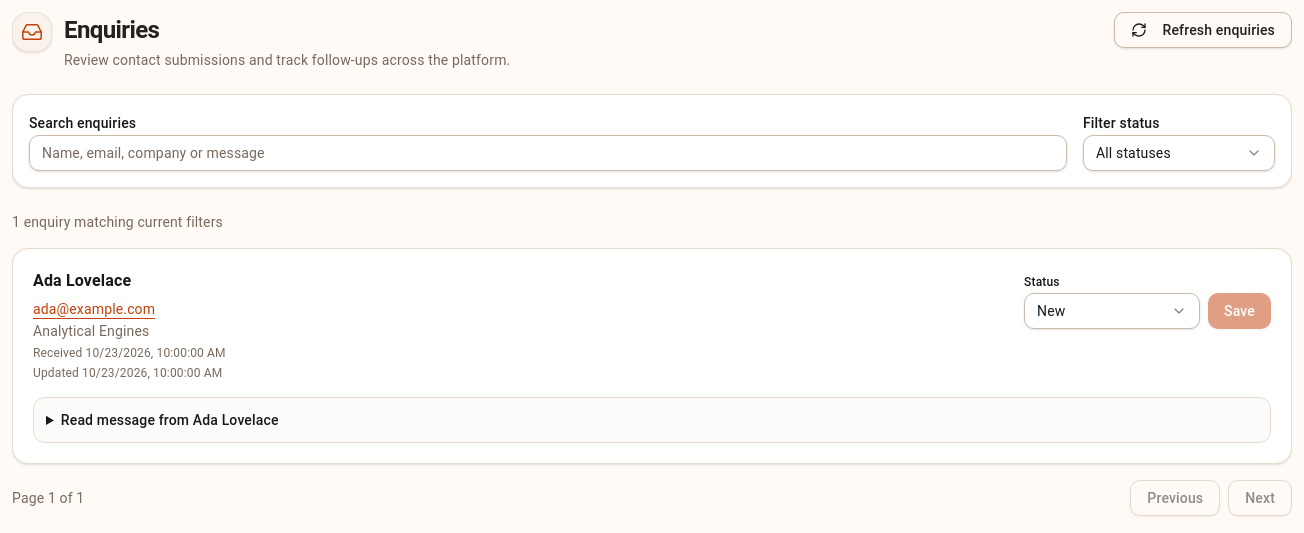
AdminContacts › requires Save before mutation and refreshes with unchanged search and status
expect the heading "Ada Lovelace" is shown: met, box [33,271,131,290]
Click the dropdown named "Filter status" at [1179, 153], box [1083,135,1275,171]
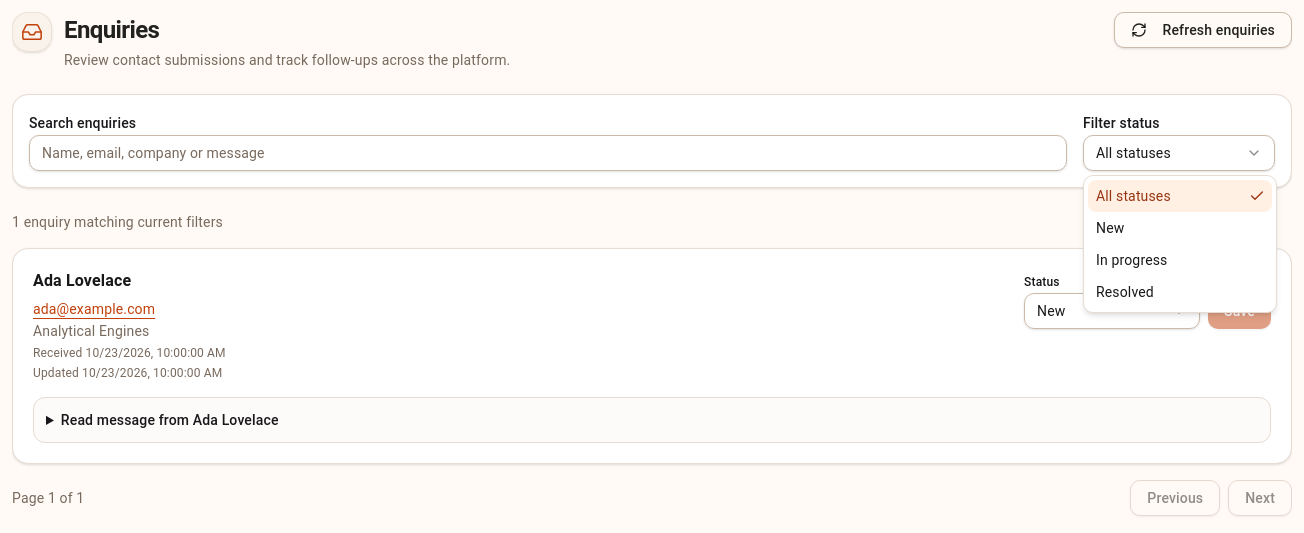
Click the option "New" at [1110, 228], box [1096,220,1124,236]
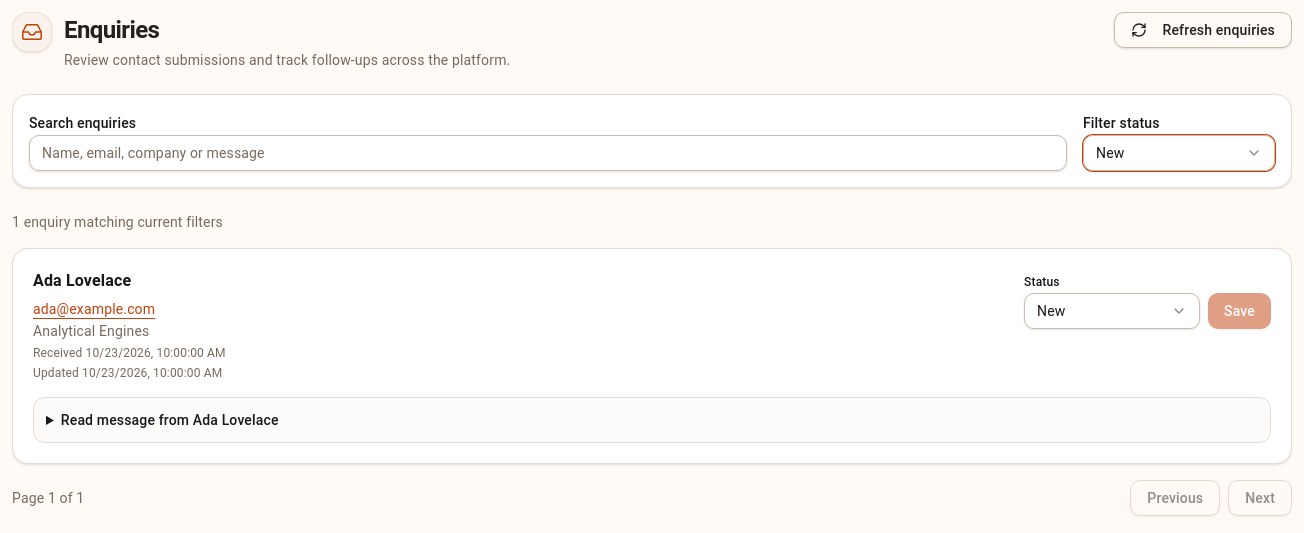
expect the heading "Ada Lovelace" is shown: met, box [33,271,131,290]
Type "Ada" into the field labelled "Search enquiries" at [548, 153], box [29,135,1067,171]
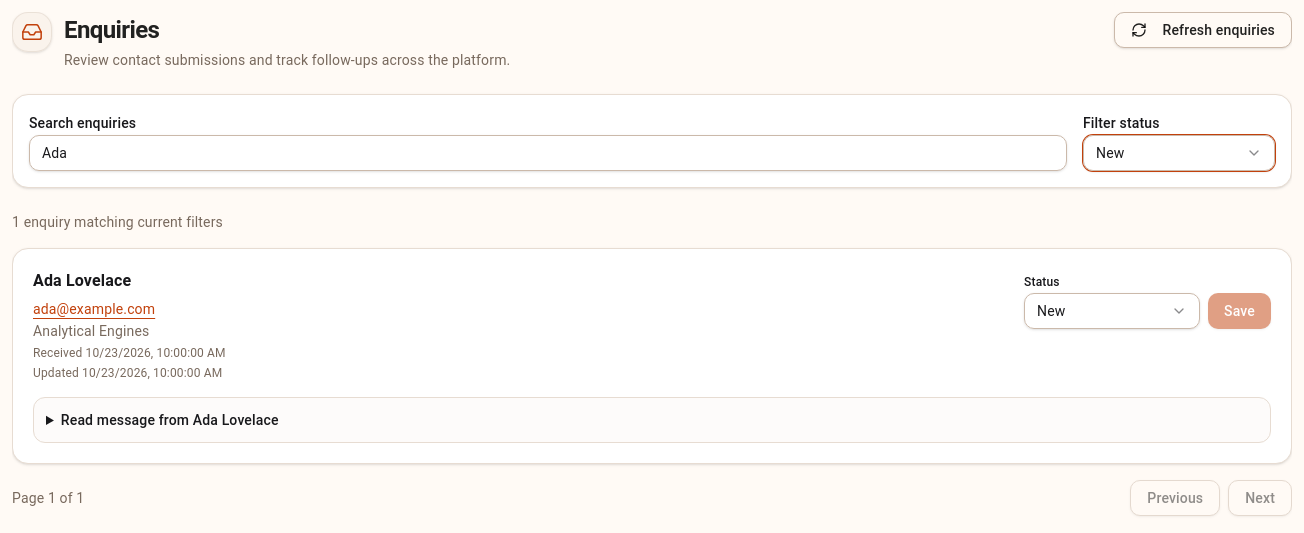
expect the heading "Ada Lovelace" is shown: met, box [33,271,131,290]
Click the dropdown labelled "New" in the row of "ada@example.com" at [1112, 311], box [1024,293,1200,329]
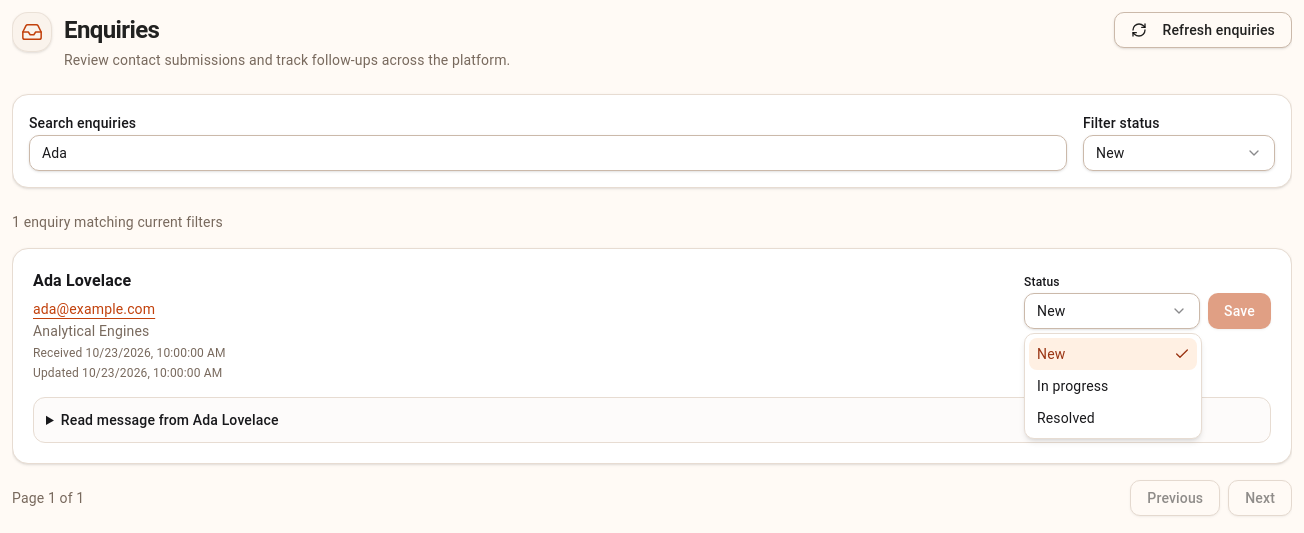
Click the option "Resolved" at [1066, 418], box [1037,410,1095,426]
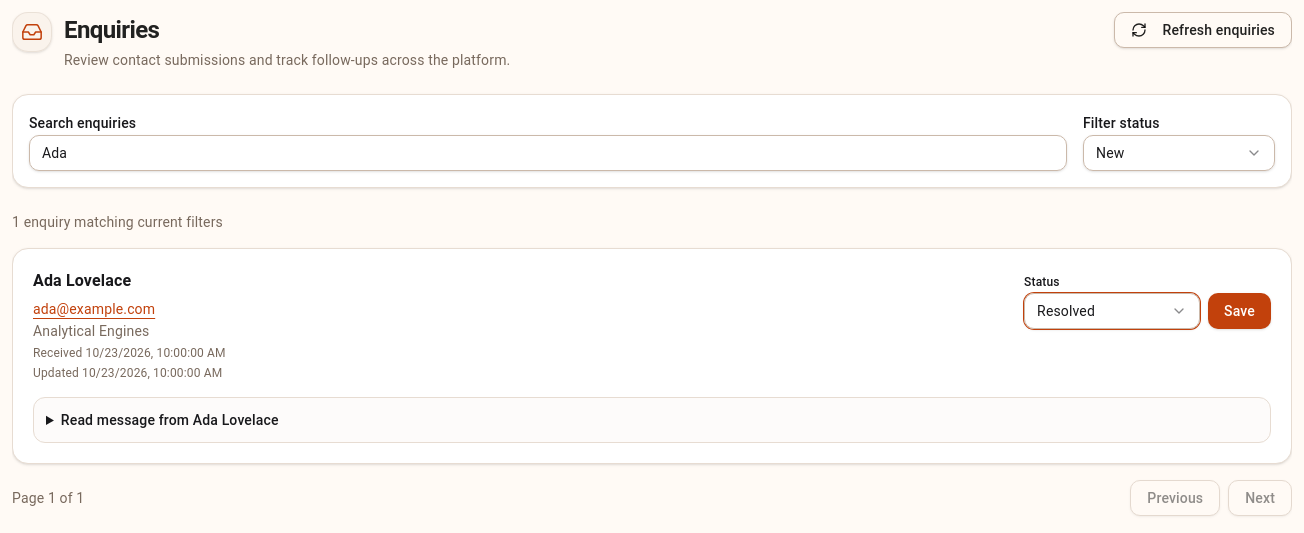
Click the button "Save" at [1240, 311], box [1208,293,1271,329]
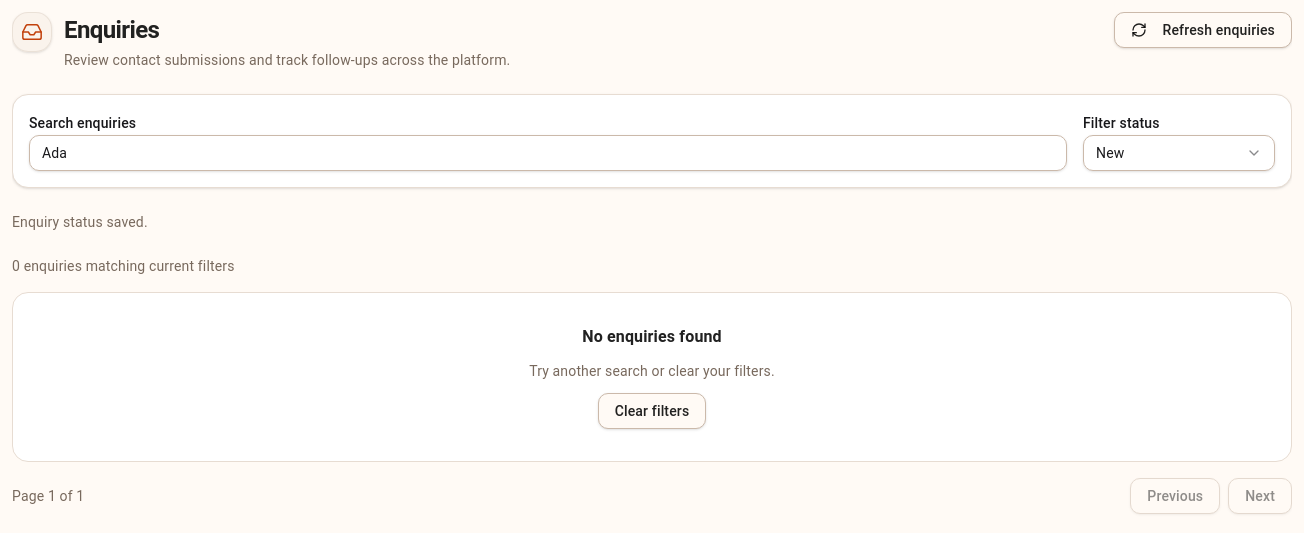
expect the text "Enquiry status saved." is shown: met, box [12,214,148,230]
expect the heading "No enquiries found" is shown: met, box [582,327,722,346]
